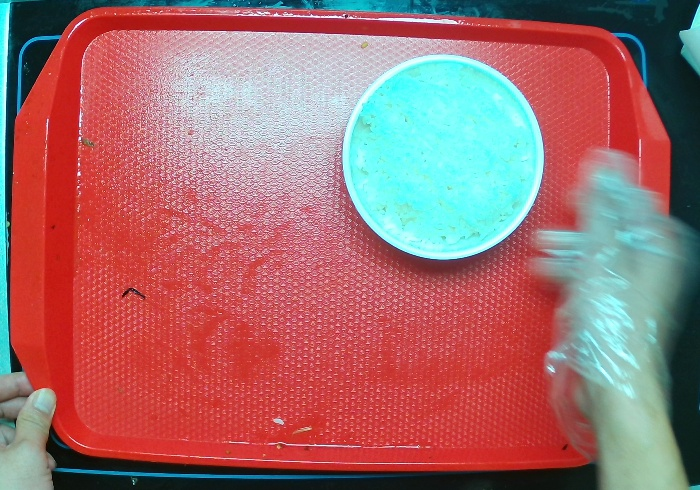YKMZ-Fan_Wan: (339, 52, 547, 263)
